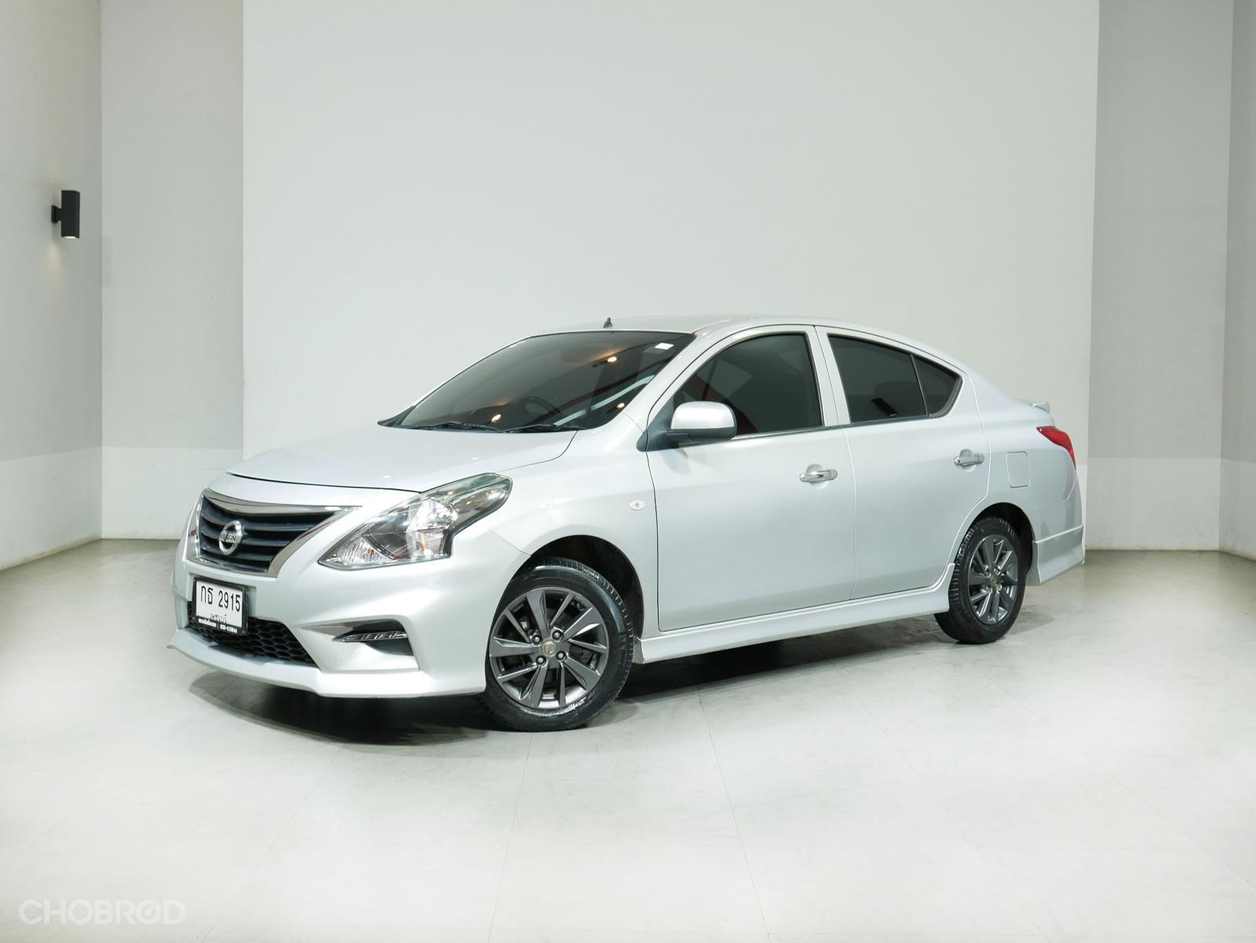license-plate: (189, 571, 250, 636)
